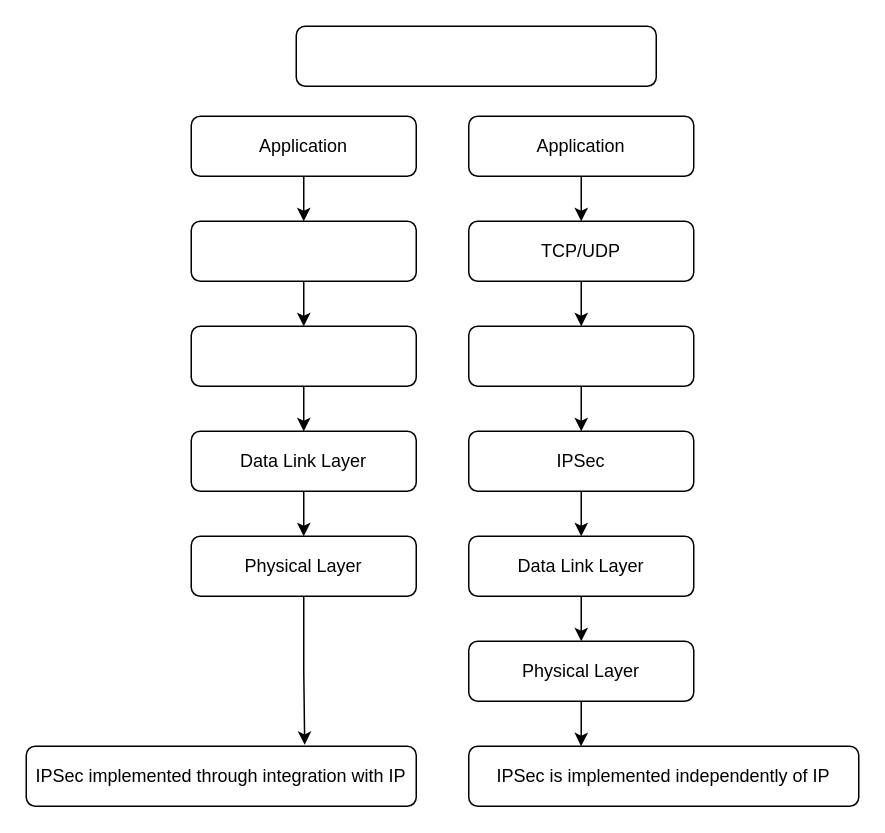
Some shapes in this 885 by 833 pixel diagram are drawn without their labels. Each missing label, with the centre of its shape:
IP: (x=580, y=355)
IP/IPSec: (x=303, y=355)
TCP/IP: (x=303, y=250)
TCP/IP/IPSec Stack: (x=475, y=55)
